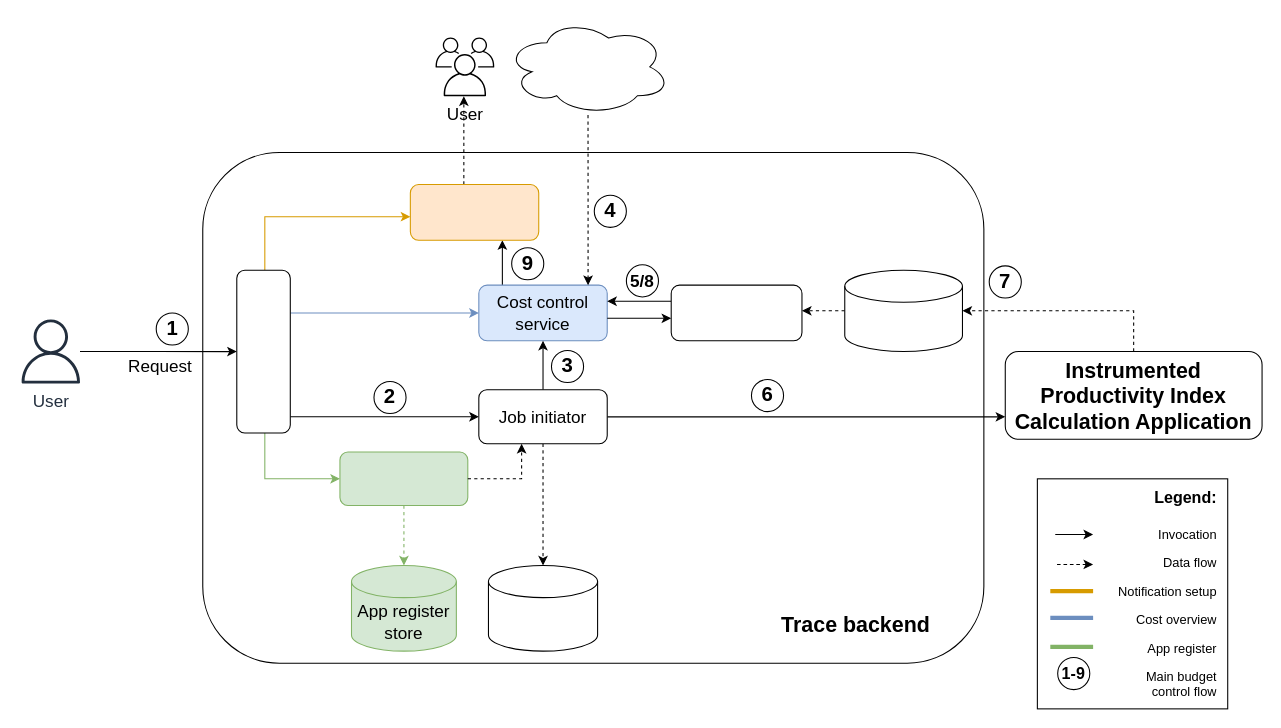
The diagram is 1281 pixels wide and 728 high, and some of its shapes have lost their labels. The centre of each missing label's shape, as x and y in pixels:
App register service: the point at 403,478
Controller: the point at 263,351
Job record store: the point at 542,607
Notification service: the point at 474,212
Service cost info API: the point at 587,66
Trace data storage: the point at 903,310
Trace service: the point at 736,312
